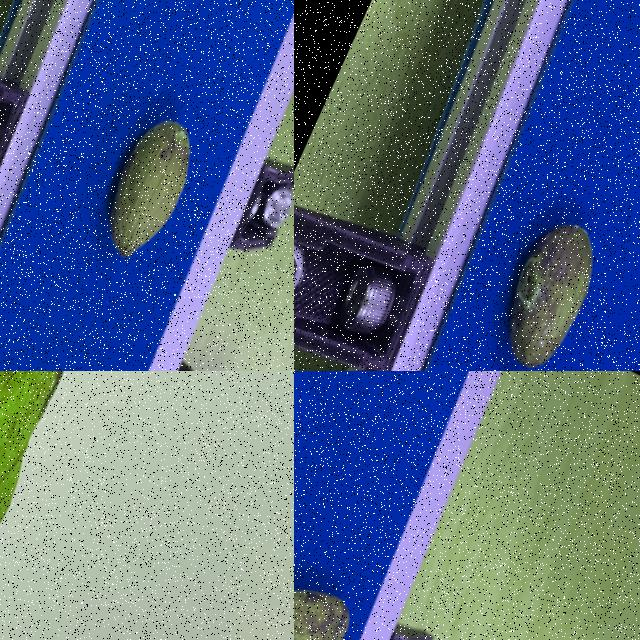Agglomerated_cocoabeans: (0, 371, 269, 639)
Fine_cocoabeans: (30, 53, 254, 353), (429, 137, 639, 370), (294, 488, 405, 639)
